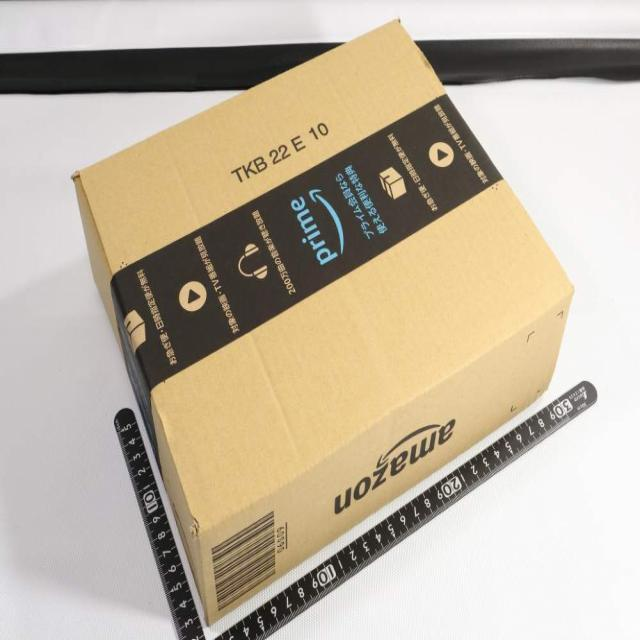-: (64, 13, 578, 631)
